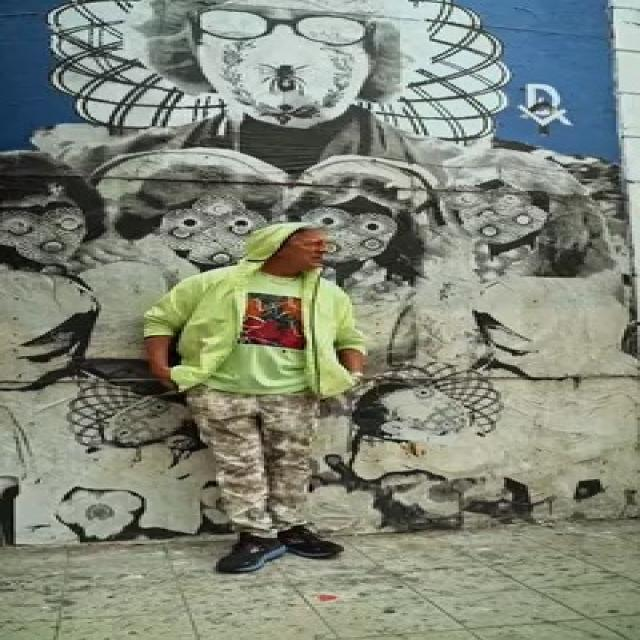Jacket_Wearer: (158, 262, 364, 402)
Person: (160, 227, 382, 541)
